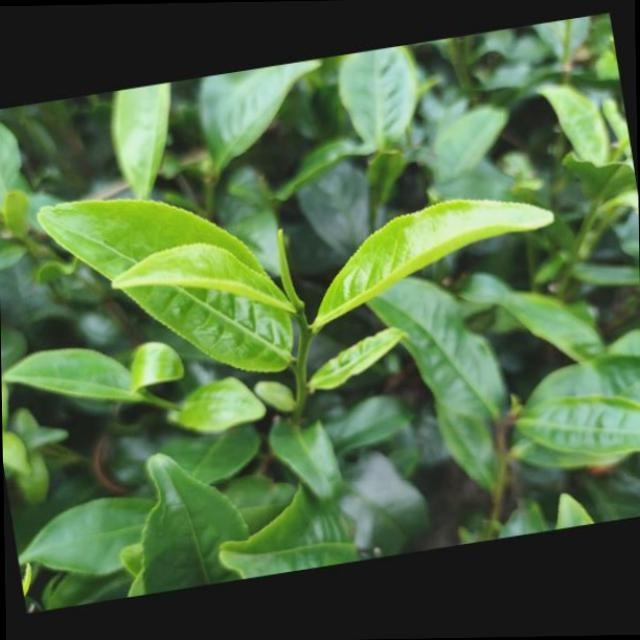Stem: (299, 326, 311, 338)
